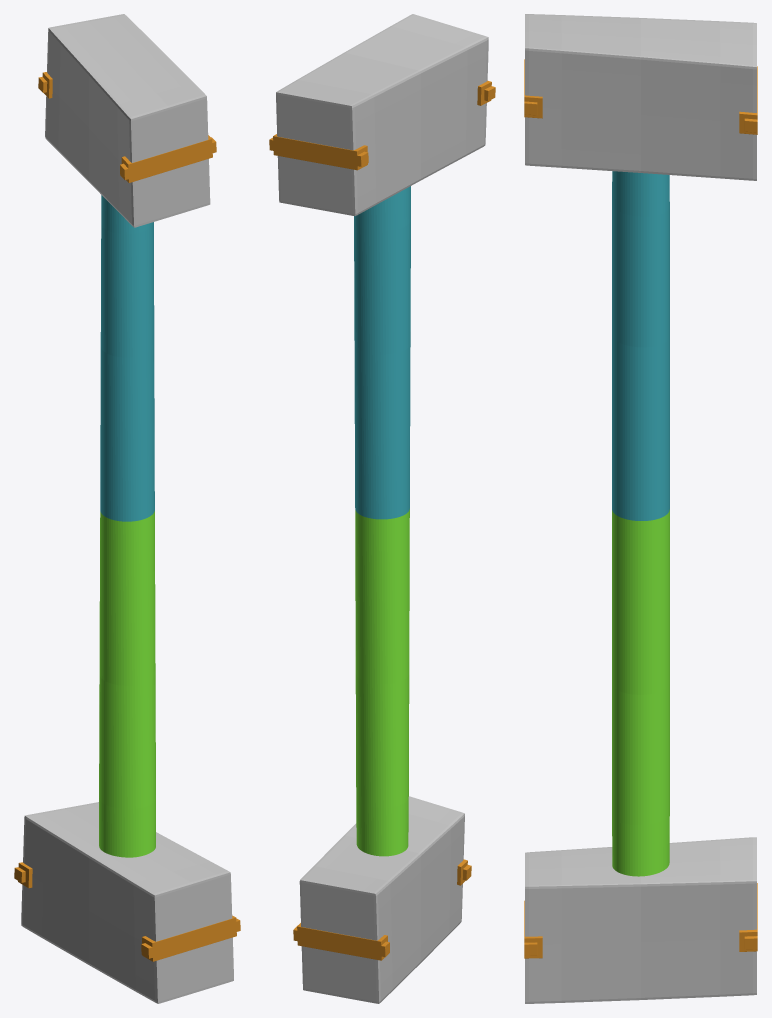
File: untitledalt.glb
3 views of the same model, side by side, from view 1: azimuth 30°, elevation 25°; view 2: azimuth 150°, elevation 25°; view 3: azimuth 270°, elevation 25° (orthographic). The views are drawn at different scales.
Visible parts, largest first — view 1: Cube; view 2: Cube; view 3: Cube.
Boxes of the visible parts, x1,y1,x2,y2 form: Cube: (14, 14, 240, 1003); Cube: (269, 14, 495, 1003); Cube: (524, 14, 757, 1003).
Size of the model in its own units: 0.5997 by 4.42 by 0.987.
